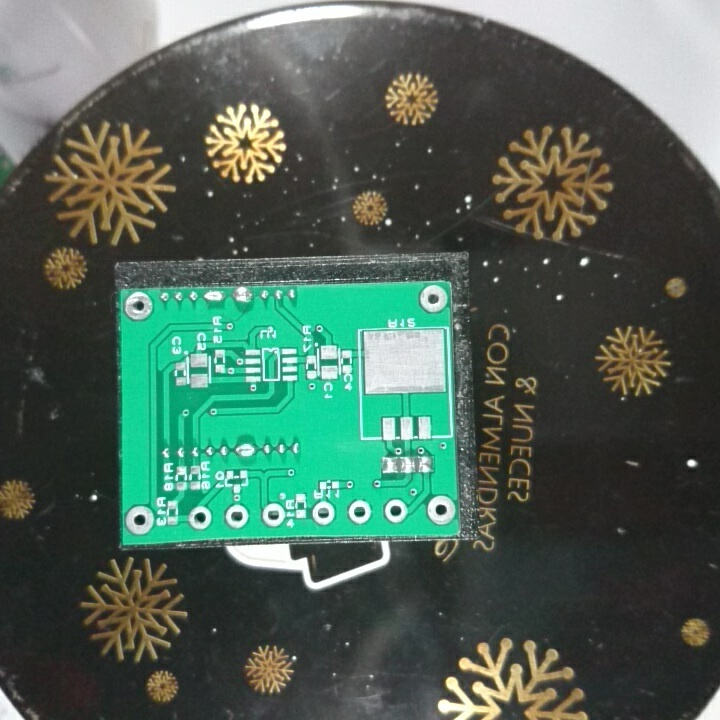F: (124, 502, 155, 536), (418, 282, 449, 315), (122, 290, 153, 320), (425, 494, 454, 524), (347, 498, 373, 527), (221, 504, 250, 529), (382, 497, 408, 524), (311, 500, 337, 526), (187, 505, 214, 529), (260, 502, 287, 526)
P: (233, 441, 259, 462), (231, 286, 256, 305), (201, 289, 228, 306)
